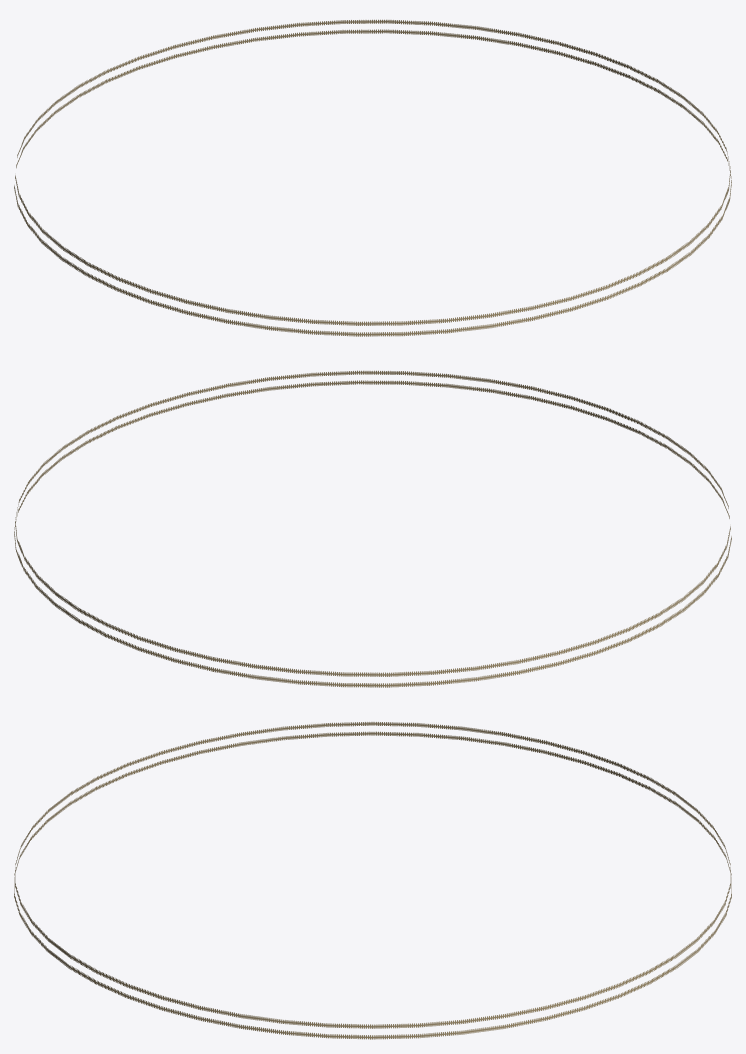
Rendered from Razigrani grad samo ograda 16. mart.fbx.
3 renders of one model, top to bottom at view 1: azimuth 30°, elevation 25°; view 2: azimuth 150°, elevation 25°; view 3: azimuth 270°, elevation 25°, orthographic.
Parts seen in each view (by area): view 1: Ograda; view 2: Ograda; view 3: Ograda.
Part boxes in pixels (x1,y1,x2,y2): Ograda: (14,19,731,336); Ograda: (14,370,731,687); Ograda: (14,722,731,1039).
Size of the model in its own units: 3543 by 110 by 3536.
Materials: 1 (1 with a texture image).
